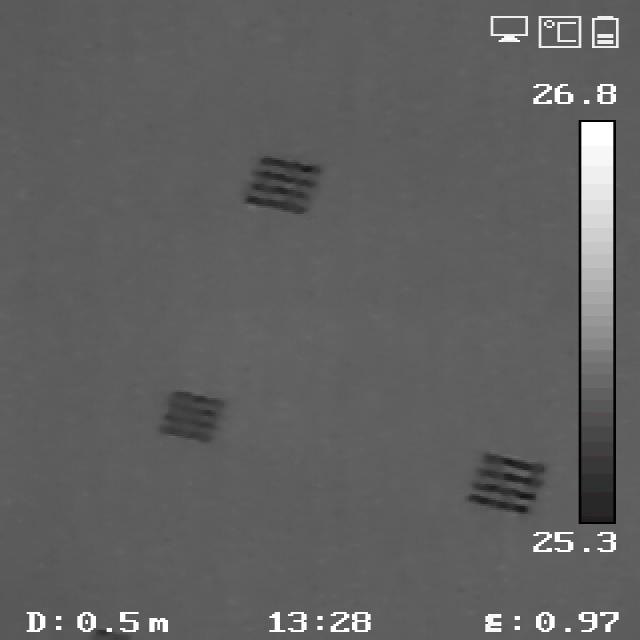Distinguishable 4-bar target: (245, 149, 323, 221), (471, 449, 545, 516)
threshold 4-bar target: (159, 388, 229, 443)
